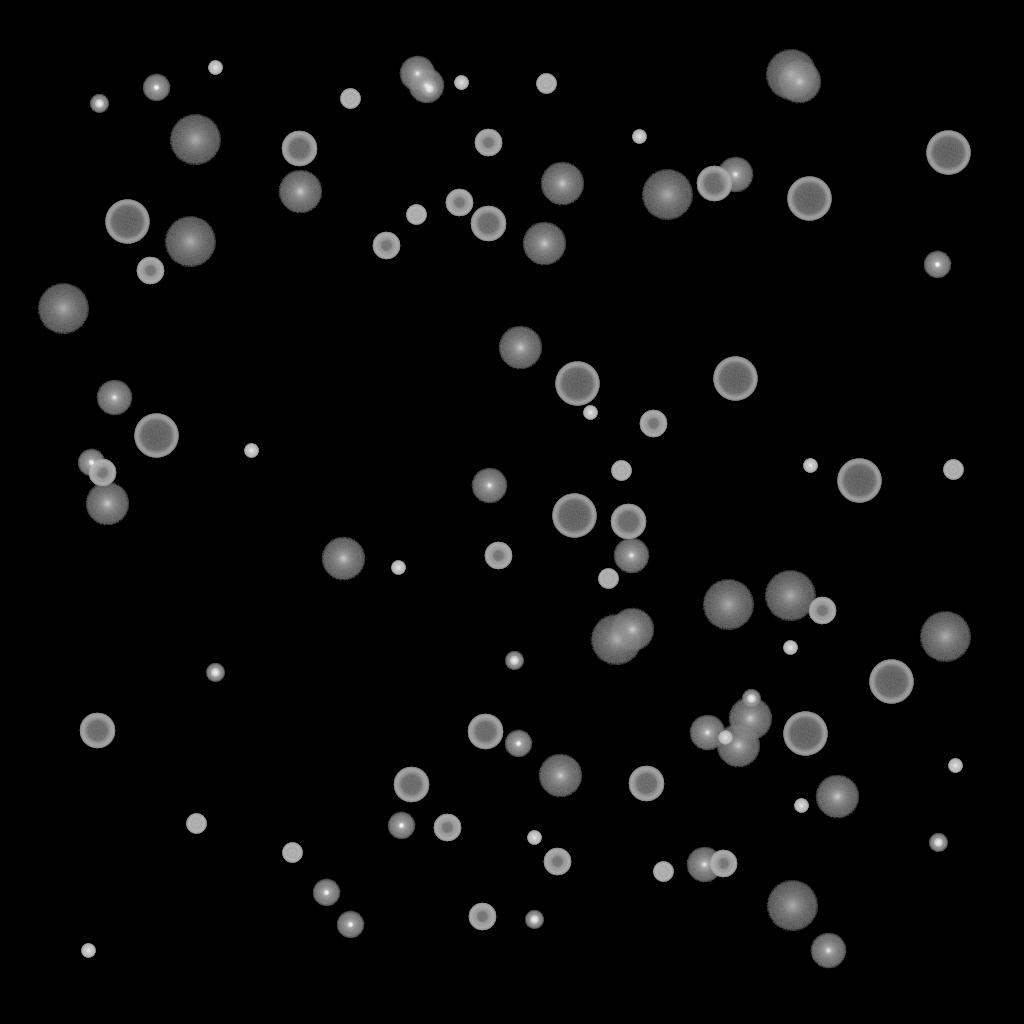depth:-10: (504, 730, 532, 758), (312, 879, 340, 907), (923, 251, 951, 279), (142, 74, 170, 102), (387, 812, 415, 840), (336, 911, 364, 939), (77, 449, 105, 477)
depth:-20: (90, 95, 108, 113), (206, 664, 224, 682), (929, 834, 947, 852), (505, 652, 523, 670), (420, 80, 438, 98), (525, 911, 543, 929), (742, 690, 760, 708)
depth:-30: (583, 406, 597, 420), (208, 61, 222, 75), (794, 799, 808, 813), (527, 831, 541, 845), (391, 561, 405, 575), (81, 944, 95, 958), (783, 641, 797, 655), (244, 444, 258, 458), (718, 731, 732, 745), (803, 459, 817, 473), (454, 76, 468, 90), (948, 759, 962, 773), (632, 130, 646, 144)
depth:-40: (186, 814, 206, 834), (598, 569, 618, 589), (282, 843, 302, 863), (611, 461, 631, 481), (536, 74, 556, 94), (943, 460, 963, 480), (340, 89, 360, 109), (653, 862, 673, 882), (406, 205, 426, 225)
depth:-50: (433, 814, 461, 842), (474, 129, 502, 157), (484, 542, 512, 570), (543, 848, 571, 876), (88, 459, 116, 487), (639, 410, 667, 438), (808, 597, 836, 625), (136, 257, 164, 285), (468, 903, 496, 931), (372, 232, 400, 260), (709, 850, 737, 878), (445, 189, 473, 217)
depth:-60: (696, 166, 732, 202), (281, 131, 317, 167), (467, 714, 503, 750), (628, 766, 664, 802), (470, 206, 506, 242), (393, 767, 429, 803), (79, 713, 115, 749), (610, 504, 646, 540)
depth:-70: (783, 712, 827, 756), (105, 200, 149, 244), (134, 414, 178, 458), (926, 131, 970, 175), (555, 362, 599, 406), (837, 459, 881, 503), (869, 660, 913, 704), (552, 494, 596, 538), (787, 177, 831, 221), (713, 357, 757, 401)
depth:0: (810, 933, 846, 969), (471, 468, 507, 504), (613, 538, 649, 574), (686, 847, 722, 883), (408, 68, 444, 104), (96, 380, 132, 416), (717, 157, 753, 193), (689, 715, 725, 751), (399, 56, 435, 92)
depth:10: (522, 222, 566, 266), (85, 482, 129, 526), (498, 326, 542, 370), (321, 537, 365, 581), (716, 724, 760, 768), (728, 697, 772, 741), (815, 775, 859, 819), (540, 162, 584, 206), (610, 608, 654, 652), (777, 60, 821, 104), (278, 170, 322, 214), (538, 754, 582, 798)
depth:20: (164, 217, 216, 267), (765, 50, 817, 100), (590, 615, 642, 665), (169, 115, 221, 165), (919, 612, 971, 662), (764, 571, 816, 621), (641, 170, 693, 220), (37, 284, 89, 334), (702, 580, 754, 630), (766, 881, 818, 931)
